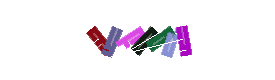3: (57, 0, 137, 80)
6: (111, 0, 191, 80)
C: (103, 0, 183, 80)
F: (96, 0, 176, 80)
J: (115, 0, 195, 80)
Y: (81, 0, 161, 80), (143, 0, 223, 80)
